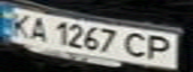1: (48, 18, 72, 47)
2: (66, 21, 87, 50)
6: (81, 25, 103, 53)
7: (96, 26, 121, 55)
A: (24, 15, 51, 43)
C: (121, 29, 151, 60)
K: (3, 9, 36, 38)
P: (142, 34, 181, 63)
